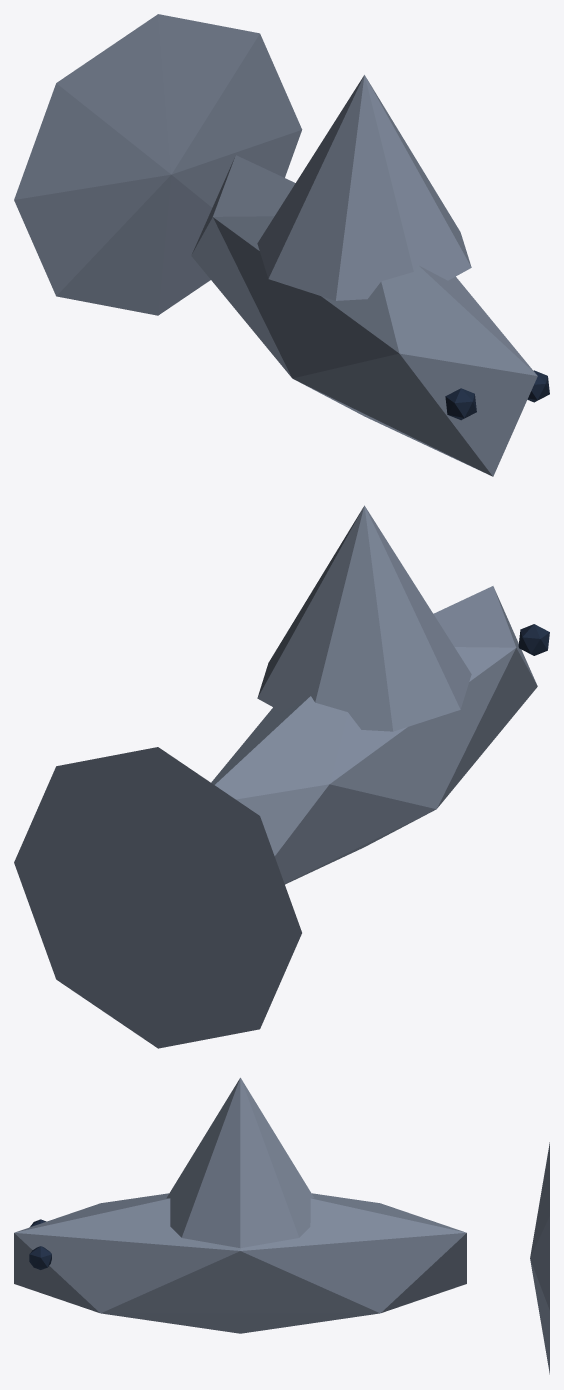
The model's file is PROP_shark_20261005.glb.
3 views of the same model, one above another, from view 1: azimuth 30°, elevation 25°; view 2: azimuth 150°, elevation 25°; view 3: azimuth 270°, elevation 25° (orthographic). The views are drawn at different scales.
Parts seen in each view (by area): view 1: FAUNA_Tail, FAUNA_Body, FAUNA_Dorsal, FAUNA_Eye; view 2: FAUNA_Tail, FAUNA_Body, FAUNA_Dorsal, FAUNA_Eye; view 3: FAUNA_Body, FAUNA_Dorsal, FAUNA_Tail, FAUNA_Eye.001.
Part boxes in pixels (x1,y1,x2,y2): FAUNA_Tail: (14, 14, 302, 315); FAUNA_Body: (191, 155, 537, 476); FAUNA_Dorsal: (257, 75, 471, 300); FAUNA_Eye: (445, 388, 476, 420); FAUNA_Tail: (14, 747, 301, 1048); FAUNA_Body: (211, 586, 537, 884); FAUNA_Dorsal: (257, 505, 471, 731); FAUNA_Eye: (518, 624, 549, 655); FAUNA_Body: (14, 1193, 466, 1333); FAUNA_Dorsal: (166, 1077, 314, 1248); FAUNA_Tail: (530, 1142, 549, 1374); FAUNA_Eye.001: (29, 1246, 51, 1269).
Bounding box in the file's own units: 1.5 × 1.95 × 3.22.
